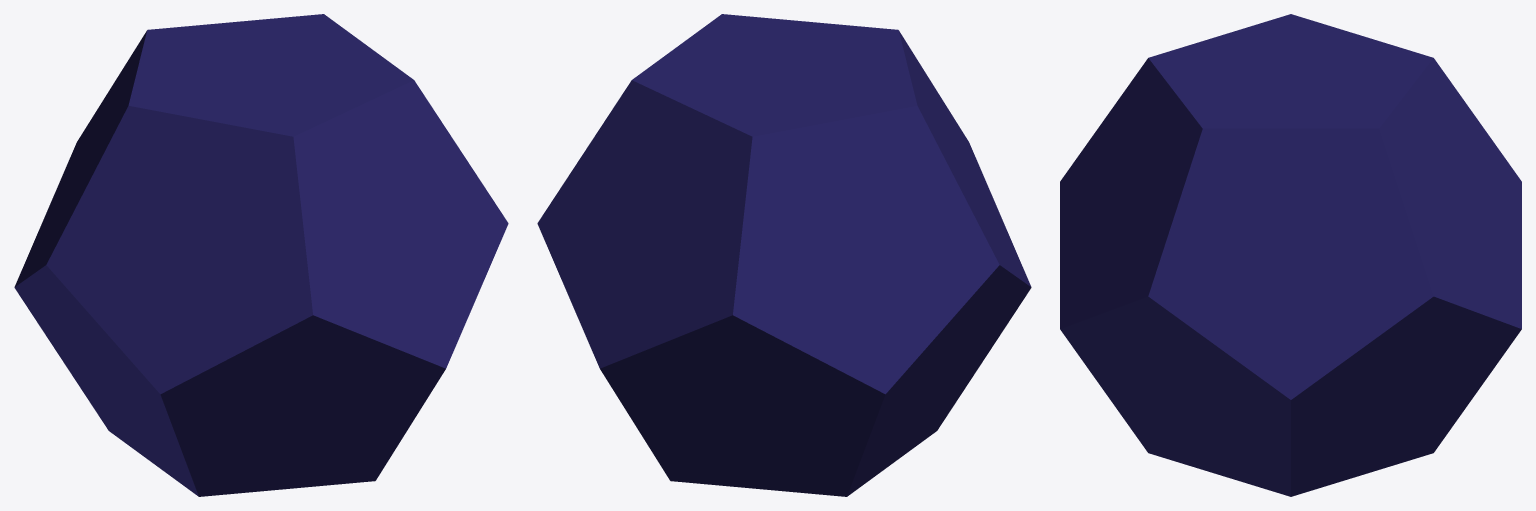
File: dice12phy.glb
3 renders of one model, left to right at view 1: azimuth 30°, elevation 25°; view 2: azimuth 150°, elevation 25°; view 3: azimuth 270°, elevation 25°, orthographic. The views are drawn at different scales.
Visible parts, largest first — view 1: Icosphere; view 2: Icosphere; view 3: Icosphere.
Boxes of the visible parts, left/top/right/bottom form: Icosphere: left=14, top=14, right=508, bottom=496; Icosphere: left=537, top=14, right=1031, bottom=496; Icosphere: left=1060, top=14, right=1521, bottom=496.
Bounding box in the file's own units: 7.81 × 6.31 × 7.42.
